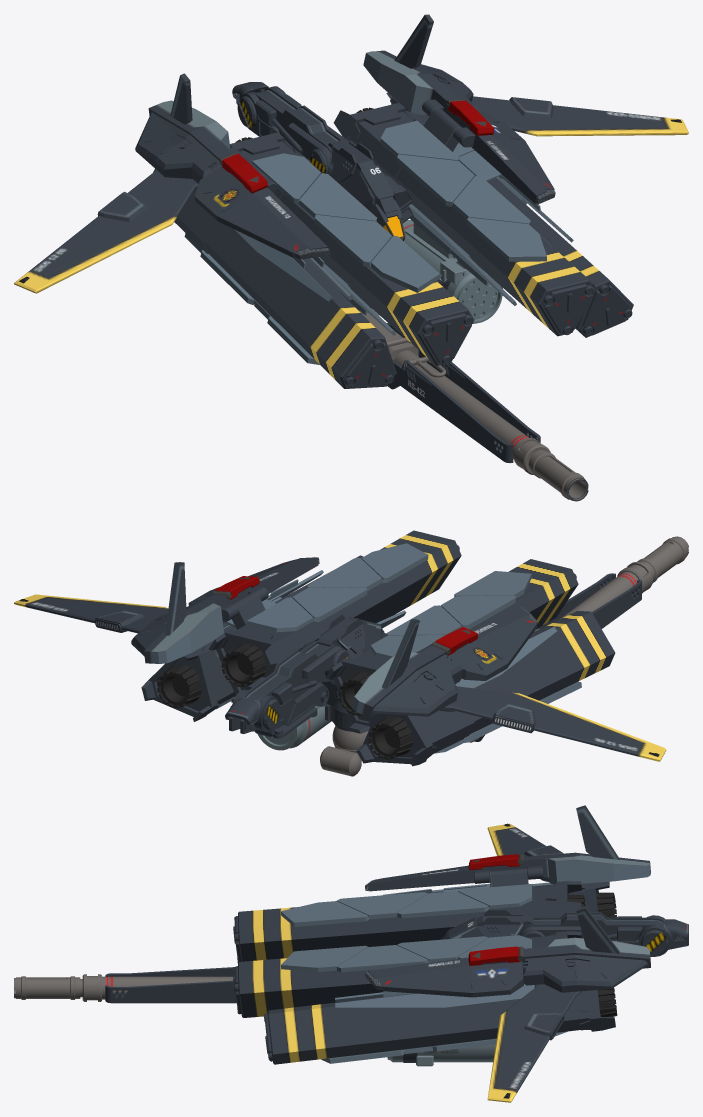
The model's file is keris fighter.fbx.
3 renders of one model, top to bottom at view 1: azimuth 30°, elevation 25°; view 2: azimuth 150°, elevation 25°; view 3: azimuth 270°, elevation 25°, orthographic. The views are drawn at different scales.
Parts seen in each view (by area): view 1: RJv5 Keris; view 2: RJv5 Keris; view 3: RJv5 Keris.
Part boxes in pixels (bbox=[...]): RJv5 Keris: bbox=[14, 14, 688, 501]; RJv5 Keris: bbox=[14, 530, 688, 776]; RJv5 Keris: bbox=[14, 805, 688, 1102].
Size of the model in its own units: 2549 by 824 by 2619.
1 material, 1 textured.
